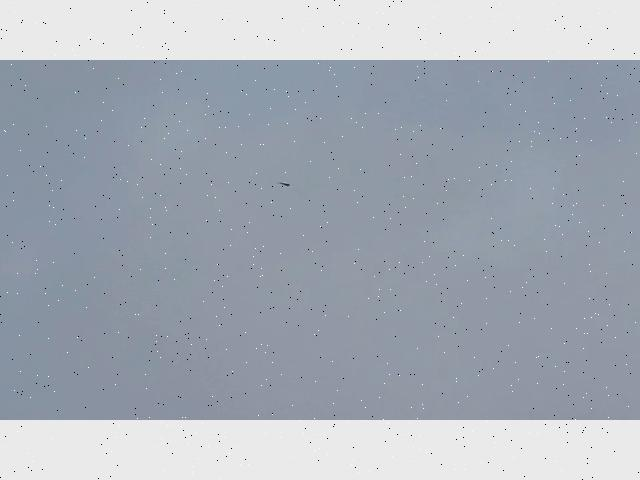Anti-Drone: (276, 181, 292, 189)
